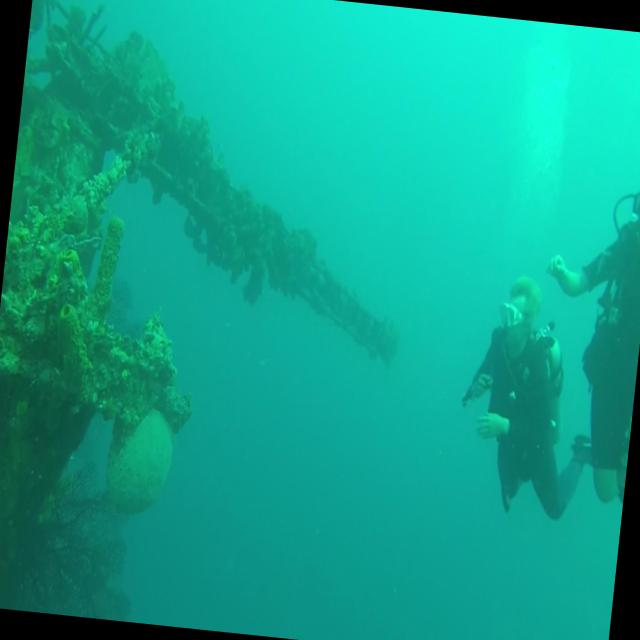human: (523, 154, 640, 507), (449, 268, 608, 522)
